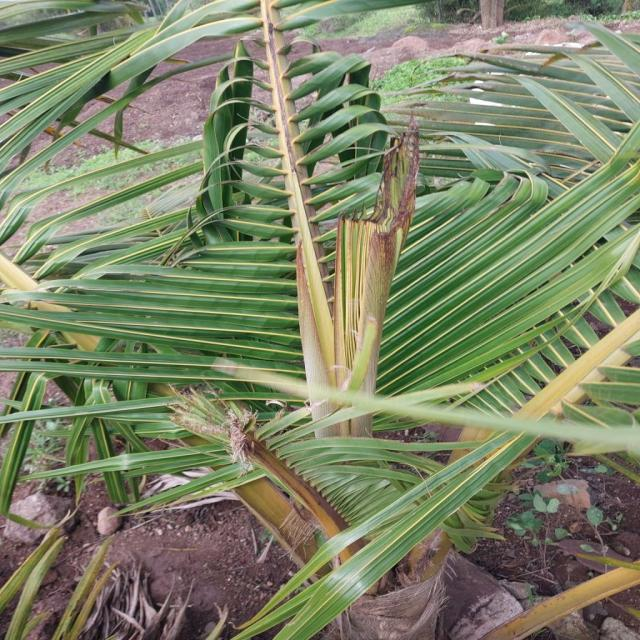bud rot: (333, 125, 418, 394)
